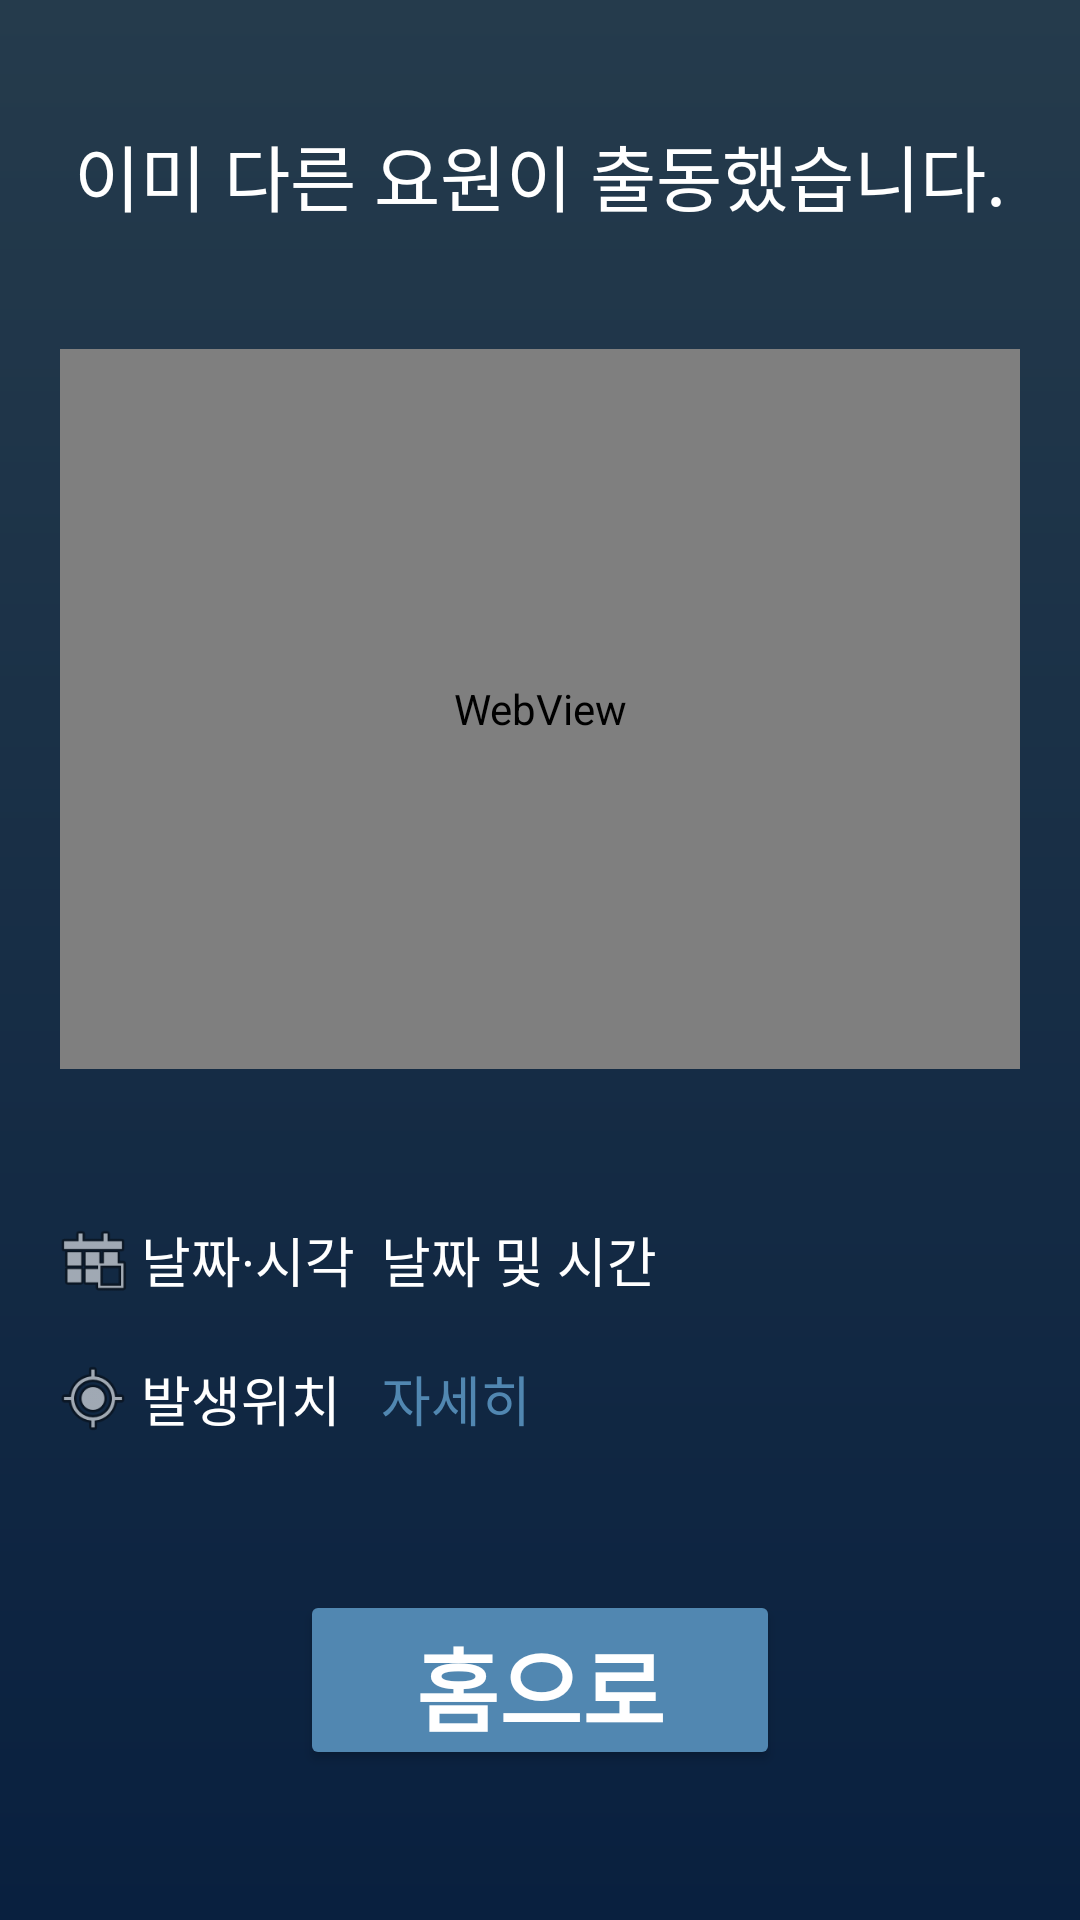

Locate icon controls on the screen. Image size 1080 × 1920, boxes as (x1,y1,x2,y2).
발생날짜: (62,1232,126,1290)
